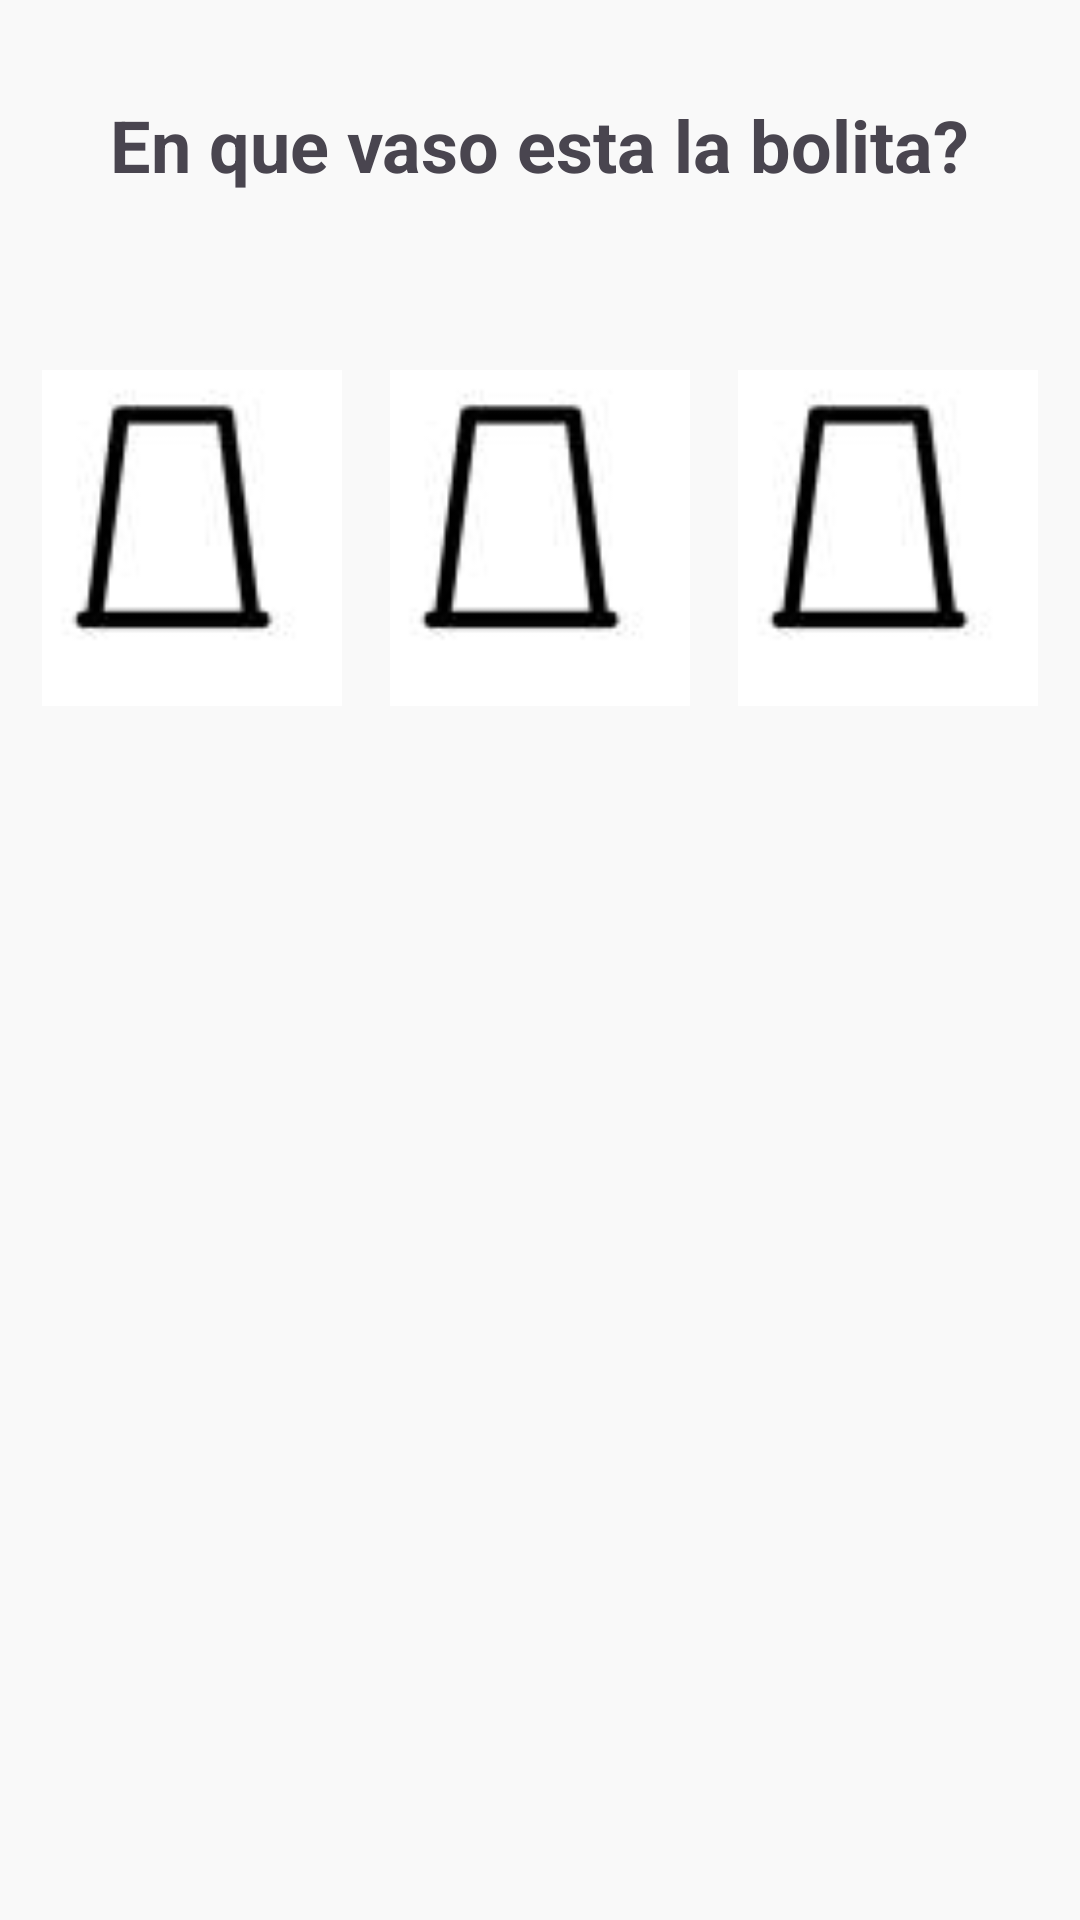

Screen size 1080 × 1920. Icon name, then its center in pixels as (x=x, y=y):
baso: (x=173, y=517), (x=521, y=517), (x=869, y=517)
